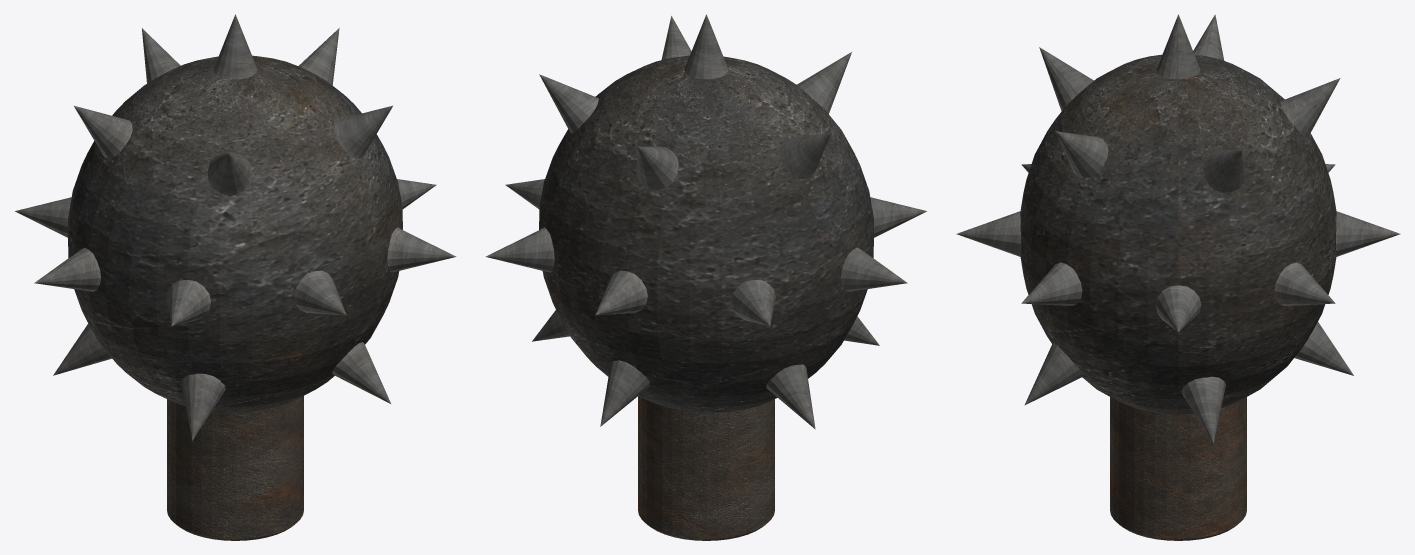
Rendered from weapon_head.obj.
3 renders of one model, left to right at view 1: azimuth 30°, elevation 25°; view 2: azimuth 150°, elevation 25°; view 3: azimuth 270°, elevation 25°, orthographic.
Visible parts, largest first — view 1: head, socket, spike_16, spike_04, spike_12, spike_07, spike_06, spike_10, spike_18, spike_17, spike_05, spike_11 (+5 smaller); view 2: head, socket, spike_14, spike_04, spike_01, spike_02, spike_15, spike_10, spike_18, spike_03, spike_09, spike_08 (+5 smaller); view 3: head, socket, spike_13, spike_01, spike_07, spike_12, spike_09, spike_18, spike_17, spike_02, spike_06, spike_00 (+4 smaller).
Part boxes in pixels (box(x1,y1,x2,y2)): head: box(68, 55, 402, 412); socket: box(167, 396, 303, 540); spike_16: box(181, 373, 225, 440); spike_04: box(34, 247, 100, 291); spike_12: box(334, 105, 392, 158); spike_07: box(387, 227, 456, 272); spike_06: box(294, 270, 346, 315); spike_10: box(74, 106, 132, 158); spike_18: box(213, 14, 257, 79); spike_17: box(332, 342, 390, 403); spike_05: box(166, 280, 211, 326); spike_11: box(207, 151, 252, 195); head: box(539, 55, 873, 412); socket: box(638, 396, 774, 540); spike_14: box(600, 360, 649, 426); spike_04: box(841, 247, 907, 291); spike_01: box(485, 227, 554, 272); spike_02: box(595, 270, 647, 315); spike_15: box(766, 364, 815, 429); spike_10: box(779, 132, 831, 179); spike_18: box(684, 14, 728, 79); spike_03: box(730, 280, 775, 326); spike_09: box(636, 146, 678, 190); spike_08: box(539, 74, 598, 133); head: box(1020, 54, 1336, 414); socket: box(1110, 397, 1246, 540); spike_13: box(1181, 376, 1225, 443); spike_01: box(1274, 262, 1335, 305); spike_07: box(1021, 262, 1082, 305); spike_12: box(1055, 131, 1108, 178); spike_09: box(1280, 78, 1340, 137); spike_18: box(1156, 14, 1200, 79); spike_17: box(1024, 343, 1082, 405); spike_02: box(1336, 211, 1400, 256); spike_06: box(956, 211, 1020, 256); spike_00: box(1155, 285, 1201, 331).
Size of the model in its own units: 94.49 by 112 by 90.36.
3 materials, 3 textured.
